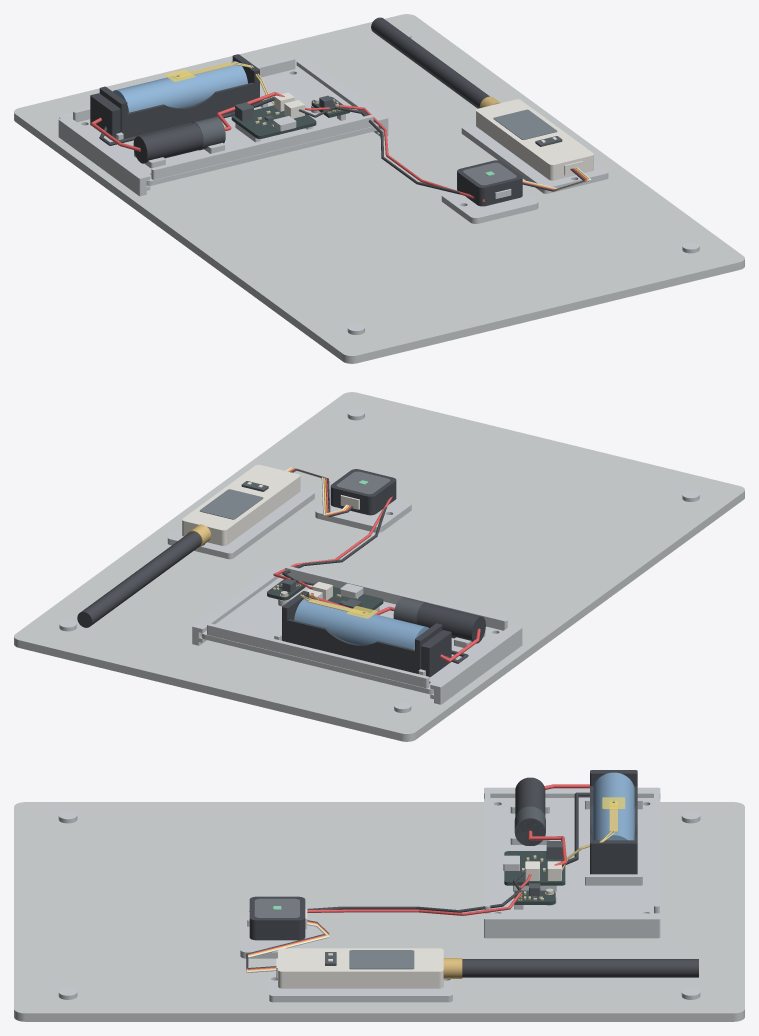
Rendered from AFP_FE_Node_Rev0_2_backplate.glb.
The picture shows the model from 3 angles, top to bottom: view 1: azimuth 30°, elevation 25°; view 2: azimuth 150°, elevation 25°; view 3: azimuth 270°, elevation 25°; orthographic projection. The views are drawn at different scales.
Parts seen in each view (by area): view 1: Backplate_ABS_215p5x315x4, PC_tray_floor, LoRa_unit_body_71p4x24x8, LiIon_cell_sleeved, Tray_end_wall_46.5, PP_holder_side_91.45, Antenna_rod_proxy, LoRa_PC_mount_base, FDI_fuseholder_body_proxy, Atom_PC_mount_bracket, Atom_body, PC_slide_lip_-101 (+8 smaller); view 2: Backplate_ABS_215p5x315x4, PC_tray_floor, LoRa_unit_body_71p4x24x8, LiIon_cell_sleeved, Tray_end_wall_119.5, PP_holder_side_110.55, Antenna_rod_proxy, LoRa_PC_mount_base, Tray_end_wall_46.5, FDI_fuseholder_body_proxy, Atom_body, Atom_PC_mount_bracket (+7 smaller); view 3: Backplate_ABS_215p5x315x4, PC_tray_floor, LoRa_unit_body_71p4x24x8, Antenna_rod_proxy, LoRa_PC_mount_base, PC_slide_rail_29, LiIon_cell_sleeved, PC_slide_lip_29, Atom_body, Holder_endwall_-13.25, FDI_fuseholder_body_proxy, LoRa_label_window_proxy (+12 smaller).
Part boxes in pixels (box(x1,y1,x2,y2)): Backplate_ABS_215p5x315x4: box(14, 14, 744, 363); PC_tray_floor: box(77, 66, 378, 185); LoRa_unit_body_71p4x24x8: box(476, 99, 593, 180); LiIon_cell_sleeved: box(113, 61, 247, 112); Tray_end_wall_46.5: box(151, 115, 373, 179); PP_holder_side_91.45: box(124, 82, 257, 136); Antenna_rod_proxy: box(371, 17, 489, 108); LoRa_PC_mount_base: box(461, 123, 608, 193); FDI_fuseholder_body_proxy: box(133, 122, 203, 163); Atom_PC_mount_bracket: box(441, 189, 538, 223); Atom_body: box(457, 160, 522, 206); PC_slide_lip_-101: box(58, 116, 150, 182); Backplate_ABS_215p5x315x4: box(14, 392, 744, 741); PC_tray_floor: box(201, 575, 503, 694); LoRa_unit_body_71p4x24x8: box(182, 464, 300, 545); LiIon_cell_sleeved: box(294, 598, 429, 649); Tray_end_wall_119.5: box(207, 623, 429, 688); PP_holder_side_110.55: box(285, 619, 417, 672); Antenna_rod_proxy: box(77, 531, 201, 627); LoRa_PC_mount_base: box(167, 488, 314, 559); Tray_end_wall_46.5: box(285, 566, 507, 630); FDI_fuseholder_body_proxy: box(416, 603, 485, 643); Atom_body: box(330, 469, 396, 515); Atom_PC_mount_bracket: box(315, 498, 411, 532); Backplate_ABS_215p5x315x4: box(14, 802, 744, 1021); PC_tray_floor: box(484, 798, 660, 913); LoRa_unit_body_71p4x24x8: box(278, 948, 443, 988); Antenna_rod_proxy: box(462, 959, 698, 977); LoRa_PC_mount_base: box(269, 961, 452, 1002); PC_slide_rail_29: box(484, 923, 660, 938); LiIon_cell_sleeved: box(592, 772, 634, 840); PC_slide_lip_29: box(484, 913, 660, 923); Atom_body: box(249, 896, 305, 940); Holder_endwall_-13.25: box(590, 840, 637, 874); FDI_fuseholder_body_proxy: box(515, 777, 545, 845); LoRa_label_window_proxy: box(349, 950, 414, 969).
Size of the model in its own units: 0.2155 by 0.0369 by 0.315.
